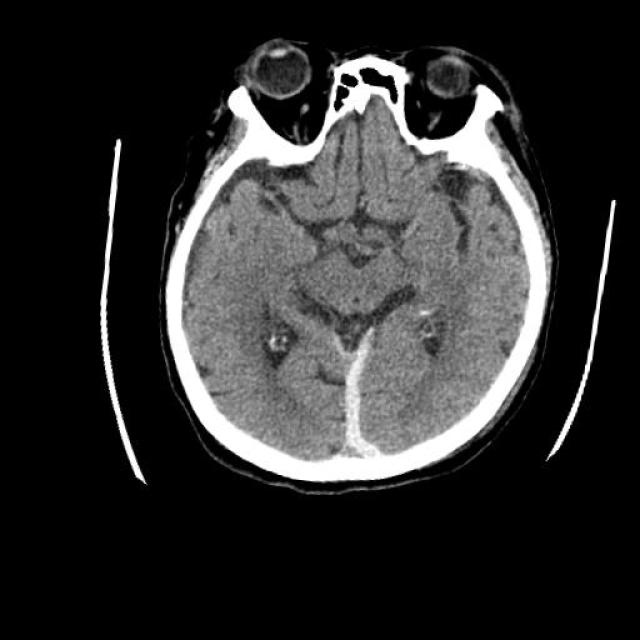Subdural: (304, 322, 416, 483)
